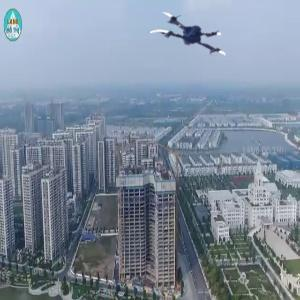drone: (148, 3, 228, 83)
